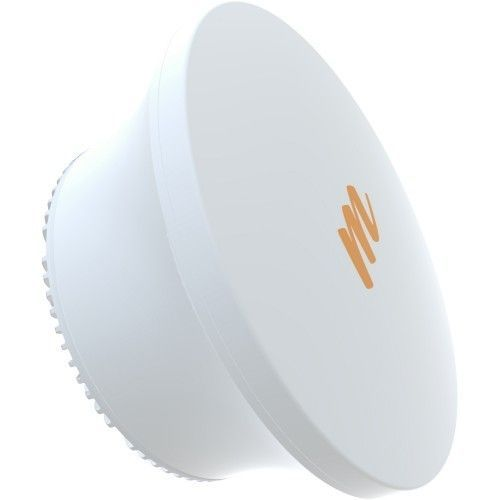ba: (30, 2, 465, 486)
